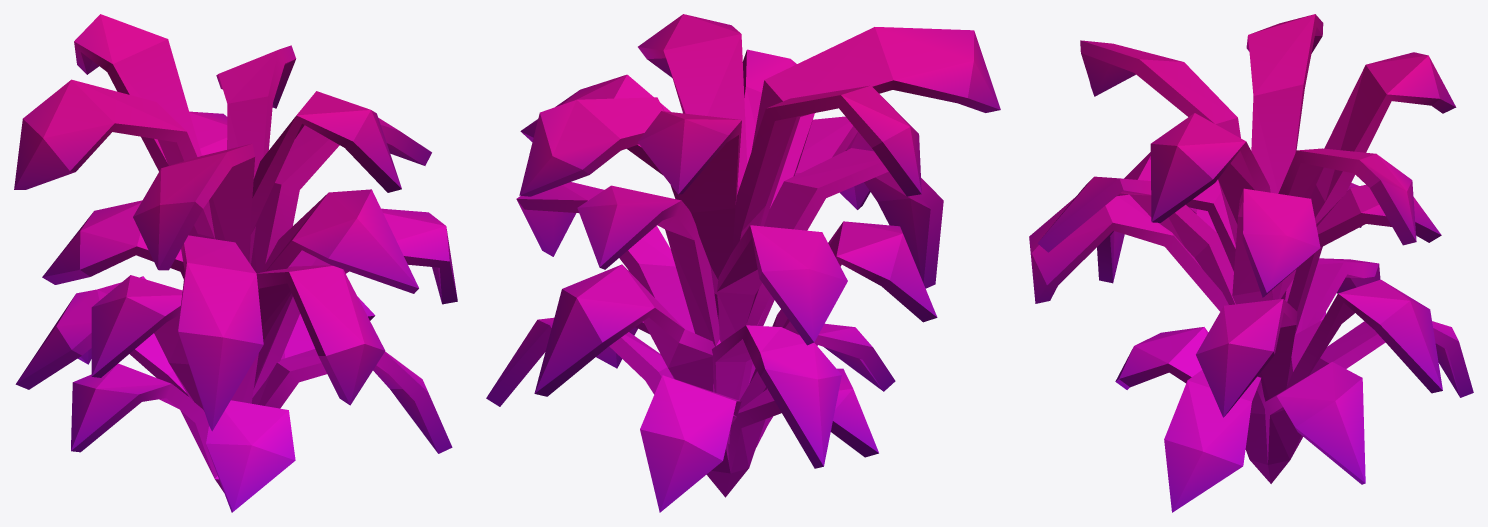
File: synty-plant-06.gltf
3 views of the same model, side by side, from view 1: azimuth 30°, elevation 25°; view 2: azimuth 150°, elevation 25°; view 3: azimuth 270°, elevation 25° (orthographic). The views are drawn at different scales.
Visible parts, largest first — view 1: SM_Plant_06; view 2: SM_Plant_06; view 3: SM_Plant_06.
Boxes of the visible parts, bbox=[...] form: SM_Plant_06: bbox=[14, 14, 457, 512]; SM_Plant_06: bbox=[486, 14, 1000, 512]; SM_Plant_06: bbox=[1029, 14, 1473, 512].
Size of the model in its own units: 1.05 by 1.09 by 1.07.
